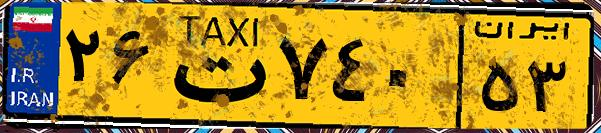0: (385, 28, 445, 110)
2: (57, 26, 110, 100)
3: (525, 38, 570, 115)
4: (330, 28, 385, 110)
5: (475, 38, 525, 113)
6: (110, 28, 158, 98)
7: (270, 28, 330, 110)
ت: (158, 12, 270, 120)
